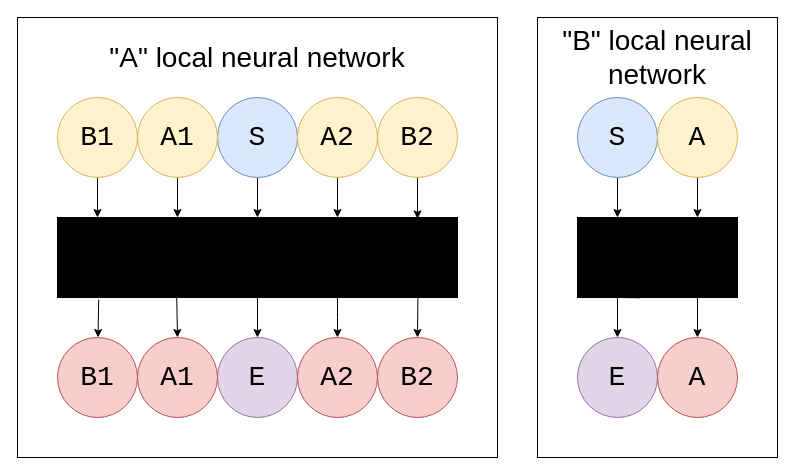
This 795x475 diagram has some shape labels left out. The centre of each missing label's shape, as x and y in pixels:
Da: the point at 257,257
Db: the point at 657,257
